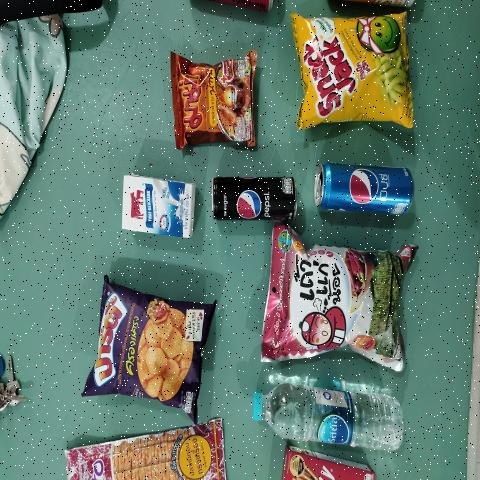crystal: (253, 375, 410, 454)
mama: (180, 62, 246, 132)
party_purple: (93, 298, 204, 402)
pepsi_black: (206, 176, 296, 226)
pepsi_blue: (318, 162, 413, 212)
snack_jack: (300, 20, 402, 119)
taokaenoi: (284, 246, 401, 360)
thai_denmark: (117, 173, 198, 239)
